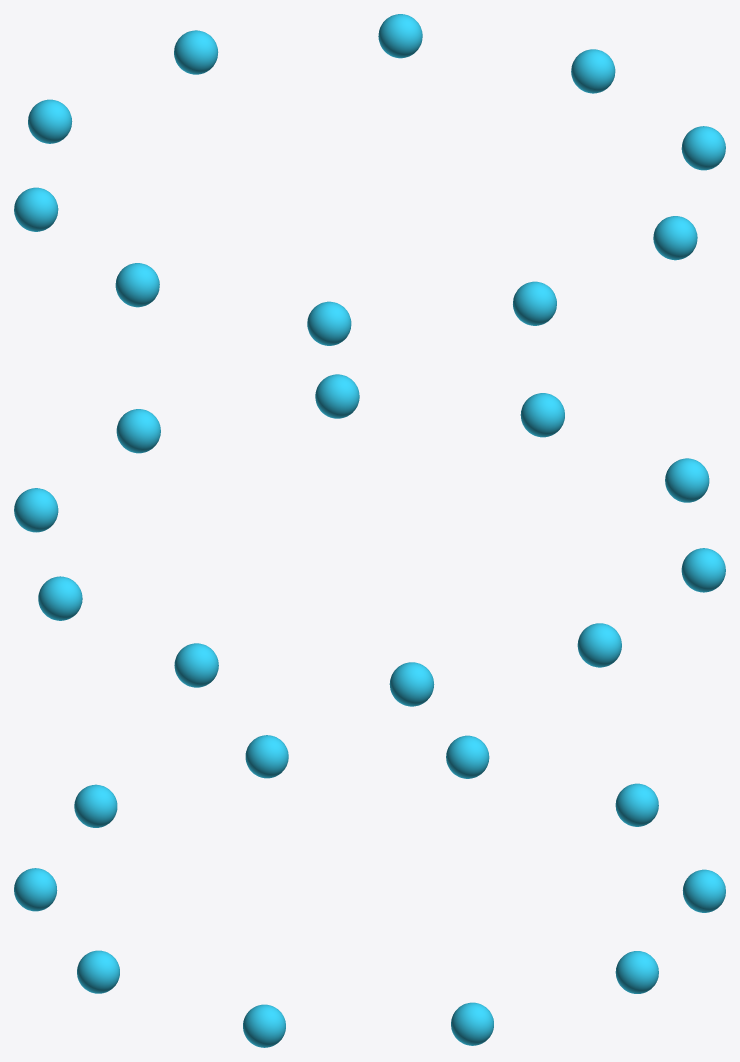
3 views of the same model, one above another, from view 1: azimuth 30°, elevation 25°; view 2: azimuth 150°, elevation 25°; view 3: azimuth 270°, elevation 25° (orthographic). The views are drawn at different scales.
Visible parts, largest first — view 1: Sphere048; view 2: Sphere048; view 3: Sphere048.
Boxes of the visible parts, x1=… form: Sphere048: x1=14, y1=14, x2=725, y2=345; Sphere048: x1=14, y1=374, x2=725, y2=706; Sphere048: x1=14, y1=735, x2=725, y2=1047.
Bounding box in the file's own units: 129 × 8.22 × 135.
